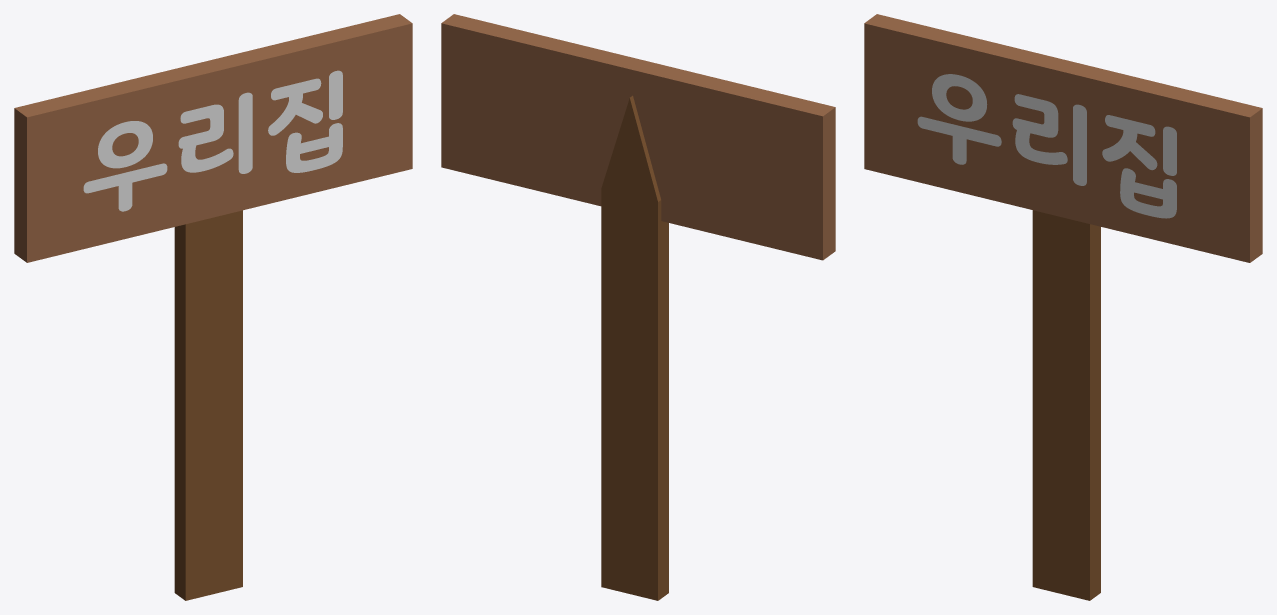
File: sign.glb
3 renders of one model, left to right at view 1: azimuth 30°, elevation 25°; view 2: azimuth 150°, elevation 25°; view 3: azimuth 330°, elevation 25°, orthographic.
Visible parts, largest first — view 1: Plane.031, Plane.029, 우리집; view 2: Plane.031, Plane.029; view 3: Plane.031, Plane.029, 우리집.
Boxes of the visible parts, x1,y1,x2,y2 form: Plane.031: [14, 14, 412, 262]; Plane.029: [174, 210, 242, 600]; 우리집: [83, 70, 342, 211]; Plane.031: [441, 14, 835, 260]; Plane.029: [601, 95, 668, 600]; Plane.031: [864, 14, 1262, 262]; Plane.029: [1032, 210, 1100, 600]; 우리집: [917, 74, 1176, 218].
Bounding box in the file's own units: 1.53 × 2 × 0.1207.
